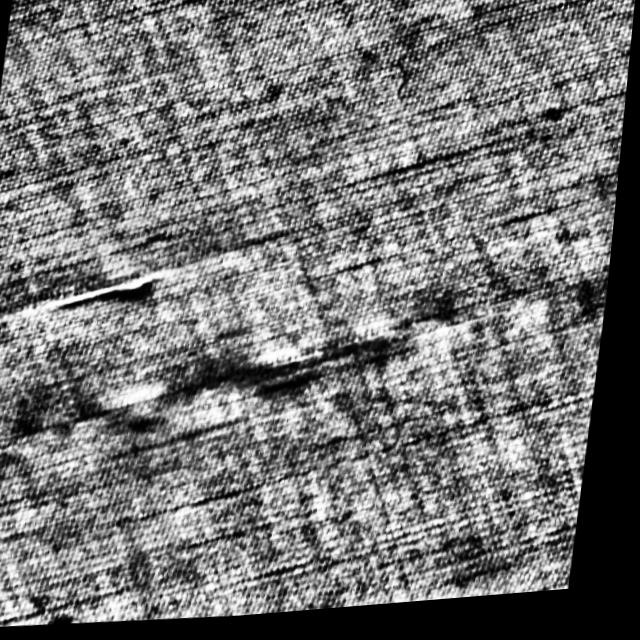Stitch: (1, 213, 551, 564), (37, 256, 175, 328)
